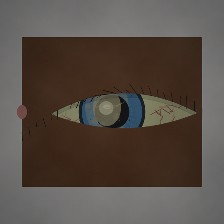corneal_ulcer: (76, 83, 138, 132)
